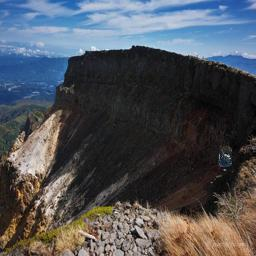Woodpecker: (218, 145, 232, 167)
